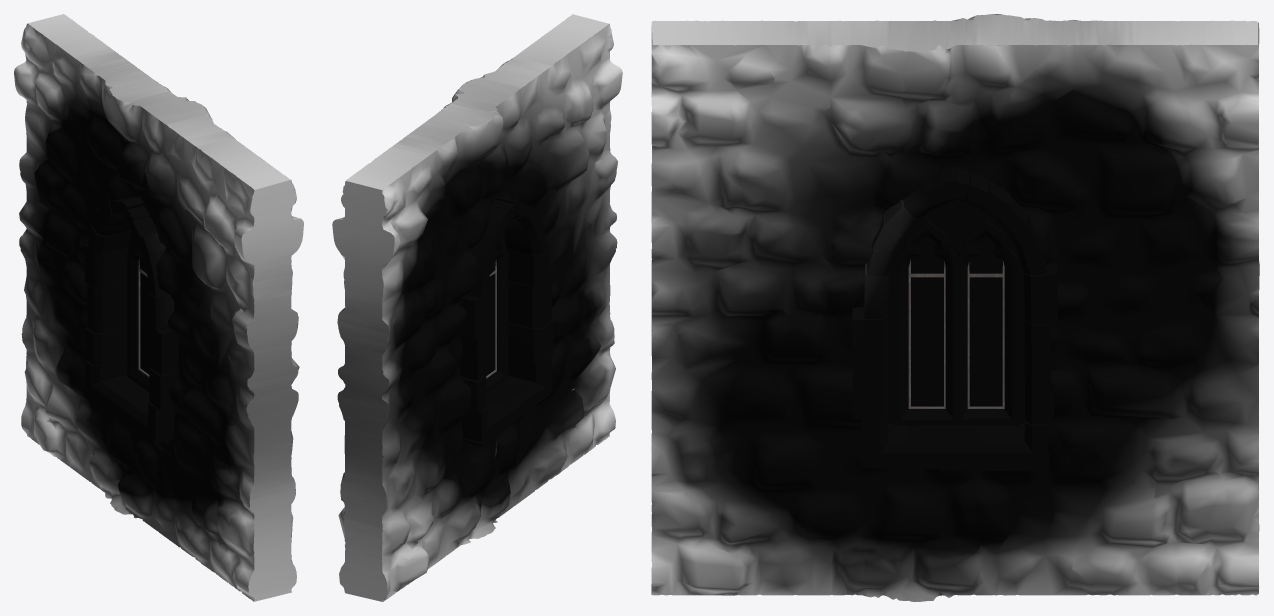
The model's file is SM_CastleTower_Window_A_01.fbx.
The picture shows the model from 3 angles, left to right: view 1: azimuth 30°, elevation 25°; view 2: azimuth 150°, elevation 25°; view 3: azimuth 270°, elevation 25°; orthographic projection. The views are drawn at different scales.
Visible parts, largest first — view 1: SM_CastleTower_Window_A_01_LOD0; view 2: SM_CastleTower_Window_A_01_LOD0; view 3: SM_CastleTower_Window_A_01_LOD0.
Boxes of the visible parts, bbox=[...] form: SM_CastleTower_Window_A_01_LOD0: bbox=[14, 14, 303, 601]; SM_CastleTower_Window_A_01_LOD0: bbox=[332, 14, 622, 601]; SM_CastleTower_Window_A_01_LOD0: bbox=[651, 14, 1259, 601].
Bounding box in the file's own units: 80.64 × 401 × 401.
